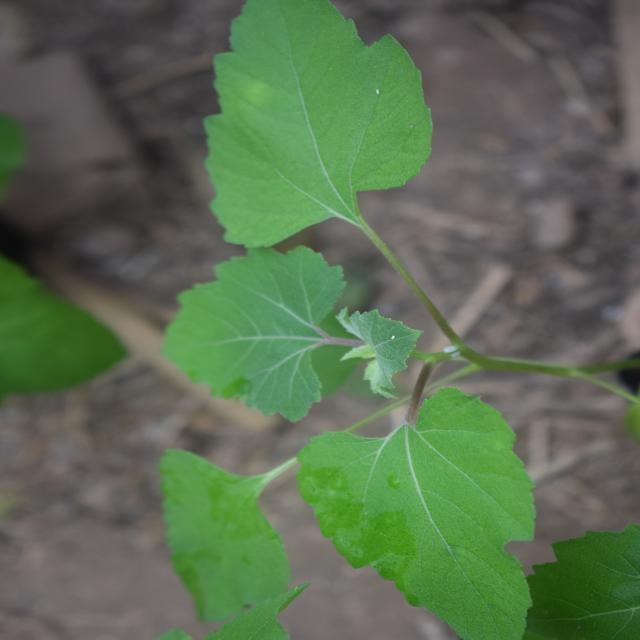cocklebur: (4, 135, 628, 516)
